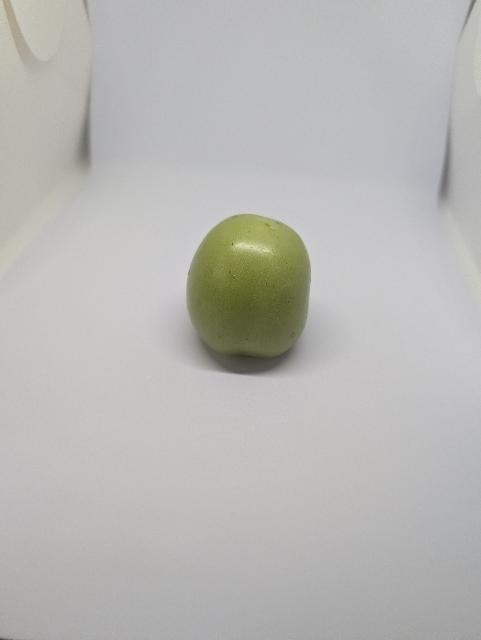green: (173, 196, 333, 369)
